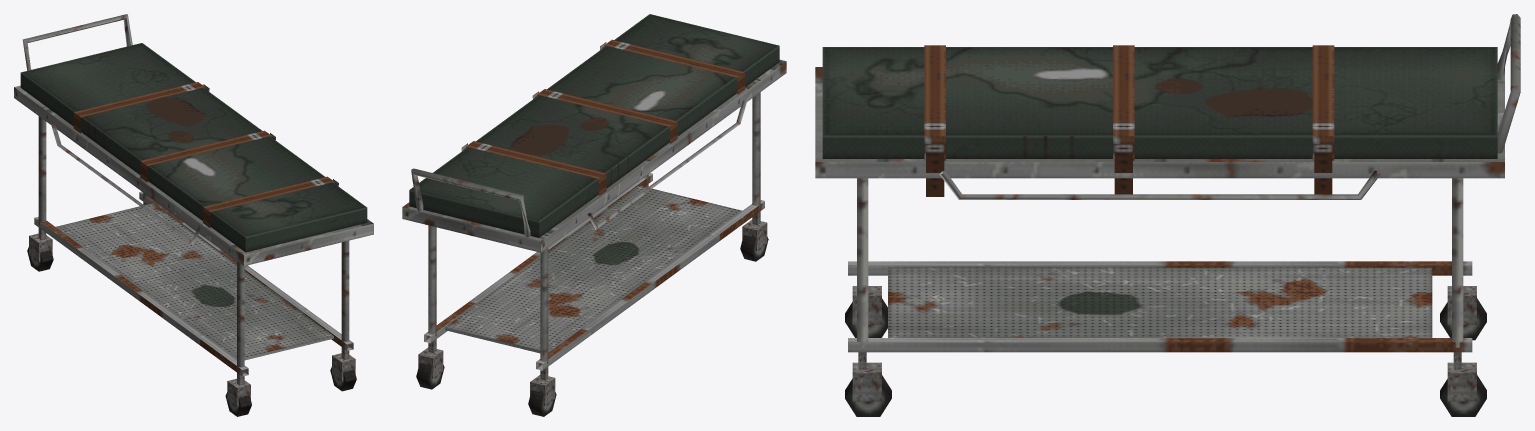
File: gurney.obj
3 renders of one model, left to right at view 1: azimuth 30°, elevation 25°; view 2: azimuth 150°, elevation 25°; view 3: azimuth 270°, elevation 25°, orthographic. The views are drawn at different scales.
Parts seen in each view (by area): view 1: gurney; view 2: gurney; view 3: gurney.
Boxes of the visible parts, <box> form: gurney: <box>14,14,373,416</box>; gurney: <box>402,14,786,416</box>; gurney: <box>815,14,1520,416</box>.
Bounding box in the file's own units: 0.67 × 0.9802 × 1.94.
1 material, 1 textured.
